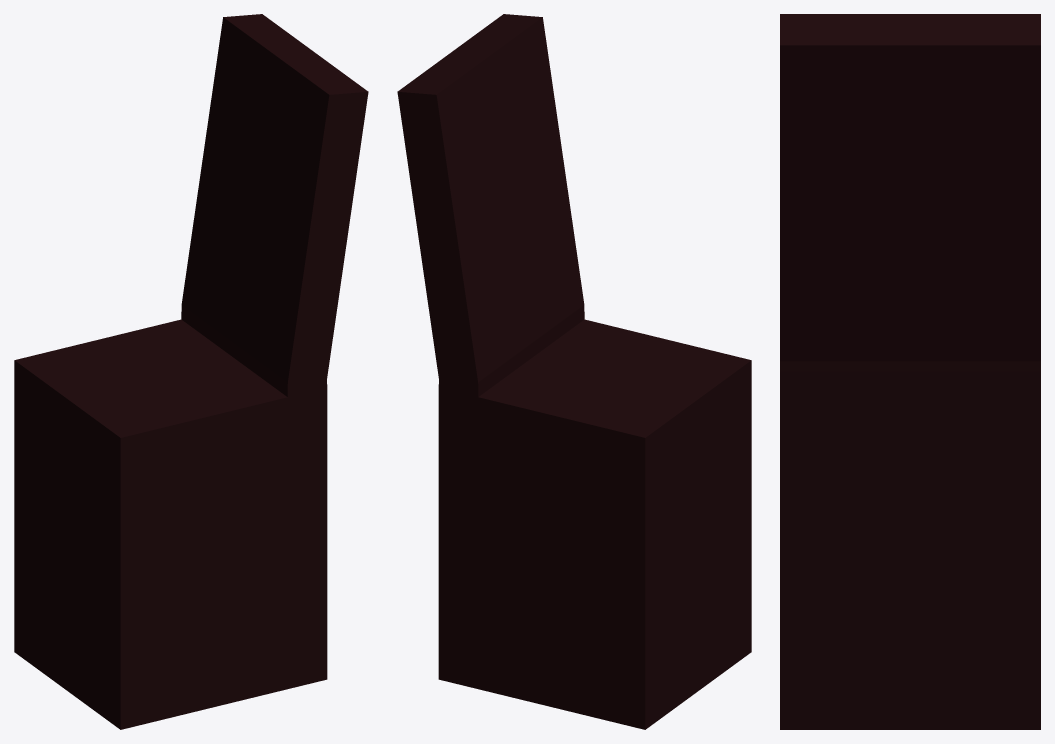
The model's file is chair.fbx.
3 renders of one model, left to right at view 1: azimuth 30°, elevation 25°; view 2: azimuth 150°, elevation 25°; view 3: azimuth 270°, elevation 25°, orthographic. The views are drawn at different scales.
Visible parts, largest first — view 1: chair; view 2: chair; view 3: chair.
Part boxes in pixels (box(x1,y1,x2,y2)): chair: box(14, 14, 368, 729); chair: box(397, 14, 751, 729); chair: box(780, 14, 1040, 729).
Bounding box in the file's own units: 56.51 × 127 × 41.95.
